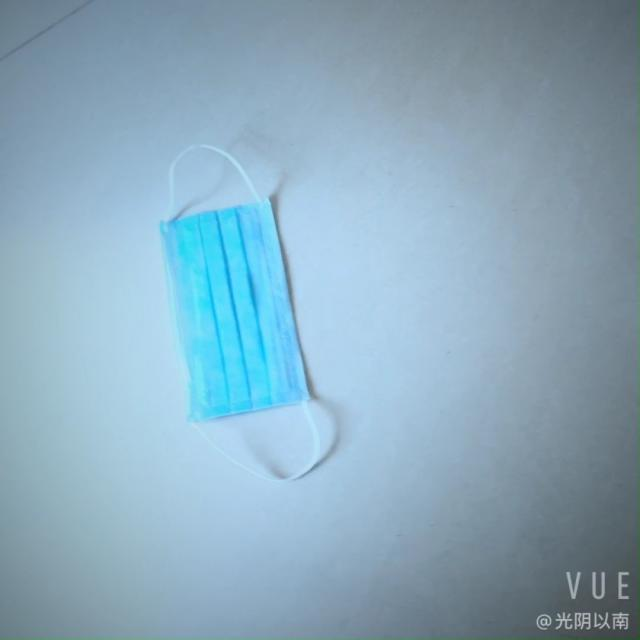face mask: (162, 167, 326, 426)
